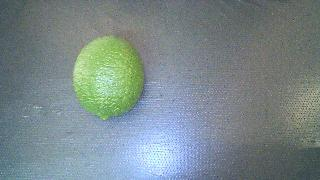EXPORTACION: (73, 36, 144, 119)
